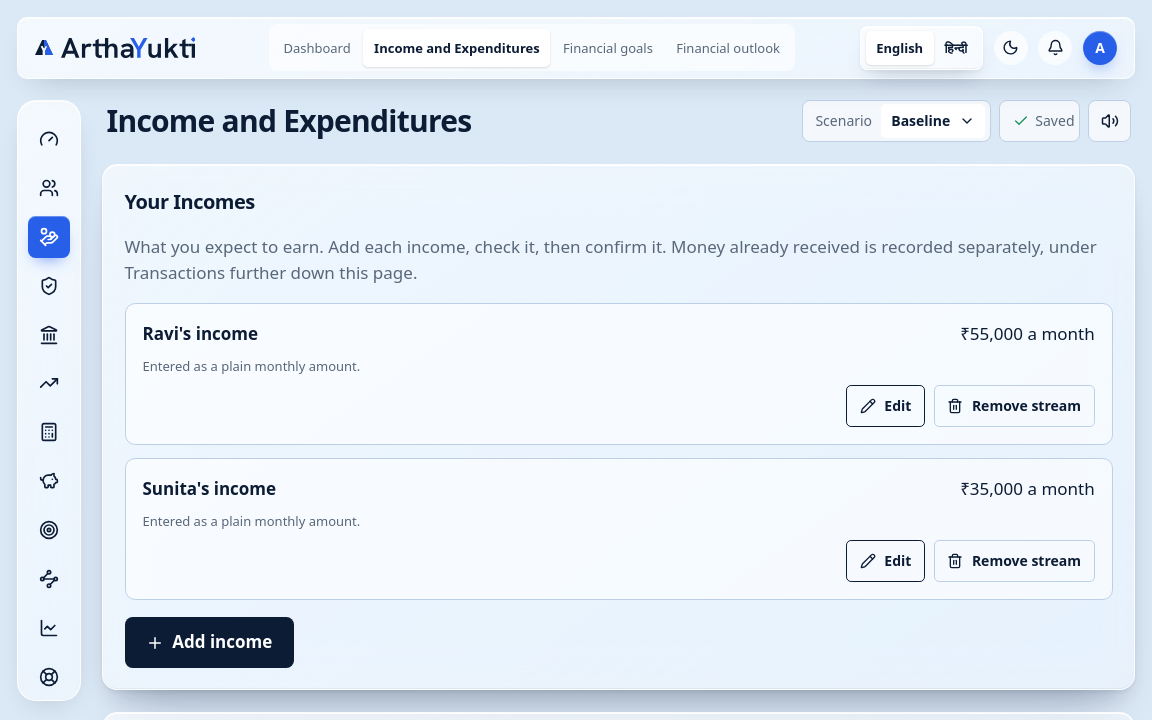
it: Your Incomes: adding, editing and confirming › ignores a second click on Confirm Income while the first is saving
Click the button "Add income" at {"x": 209, "y": 643}, box [124, 617, 294, 668]
(page scrolled)
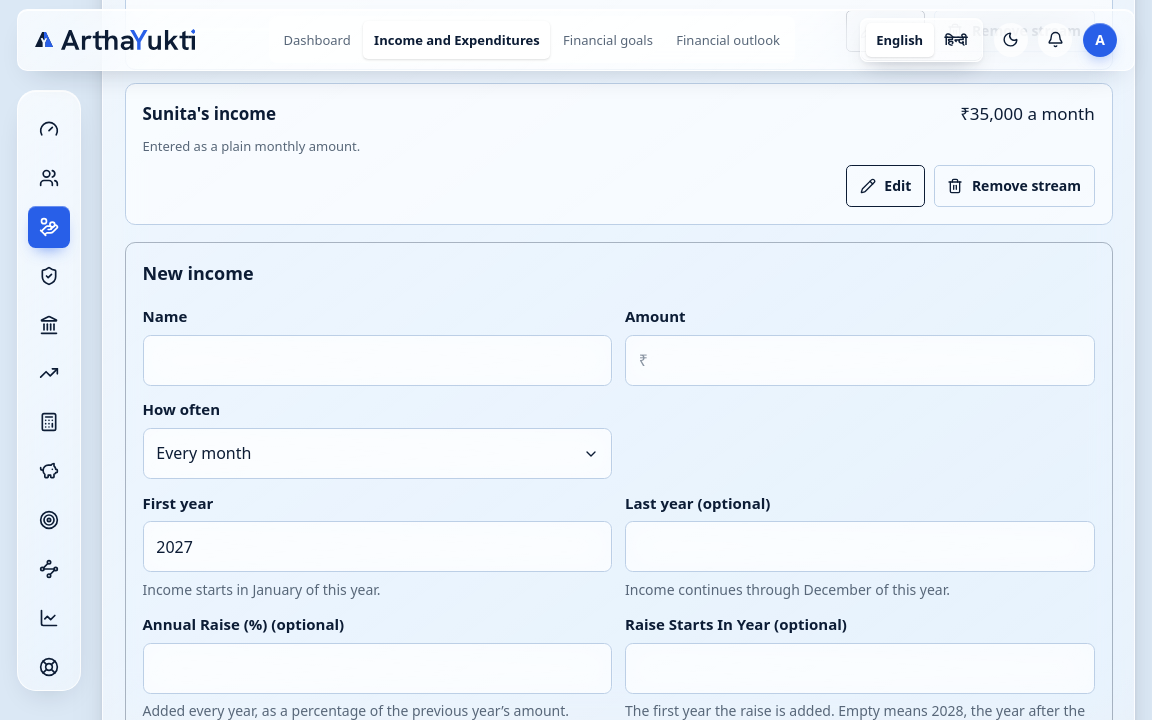
Type "Rent received" into the field labelled "Name" at {"x": 377, "y": 360}, box [142, 335, 612, 386]
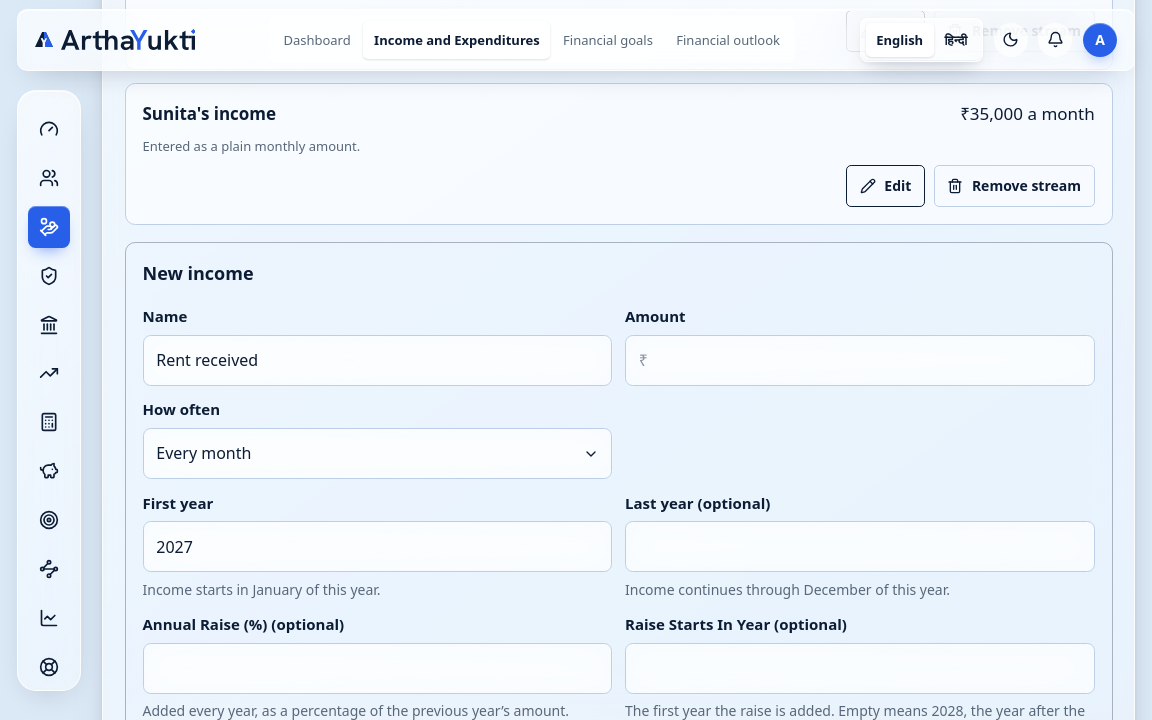
Type "12000" into the field labelled "Amount" at {"x": 860, "y": 360}, box [625, 335, 1095, 386]
(page scrolled)
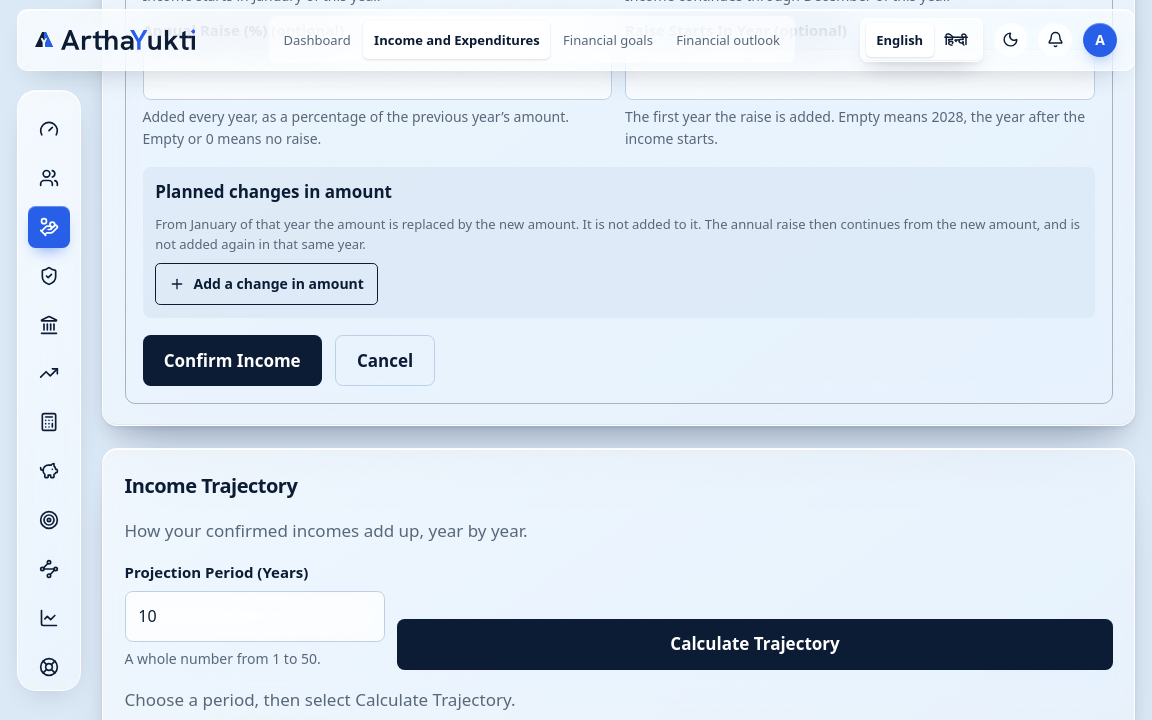
Click the button "Confirm Income" at {"x": 232, "y": 361}, box [142, 335, 322, 386]
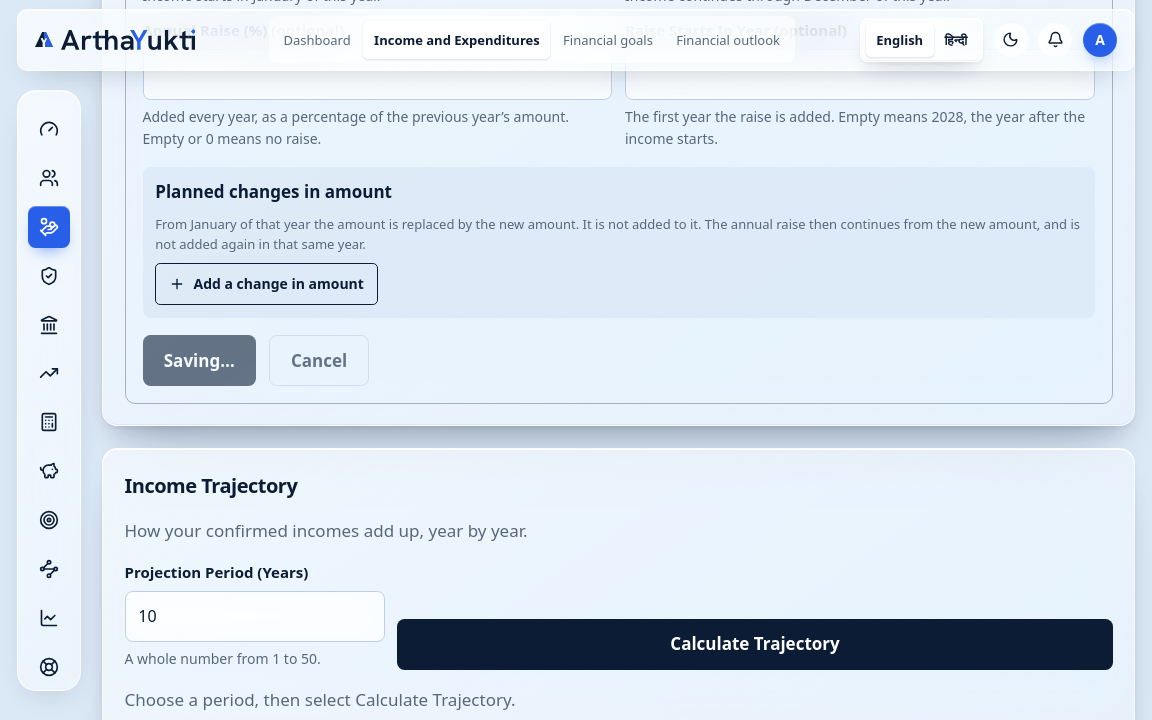
Click the button named "Confirm Income" at {"x": 199, "y": 361}, box [142, 335, 256, 386]
(page scrolled)
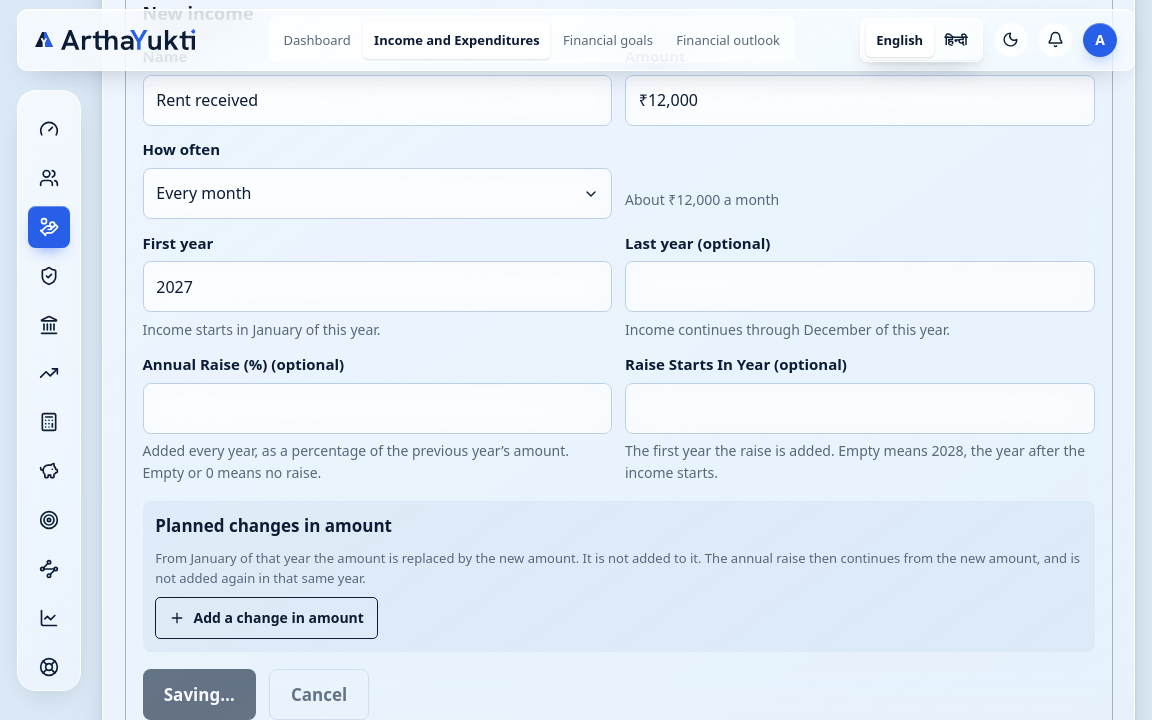
Submit the form "New income"
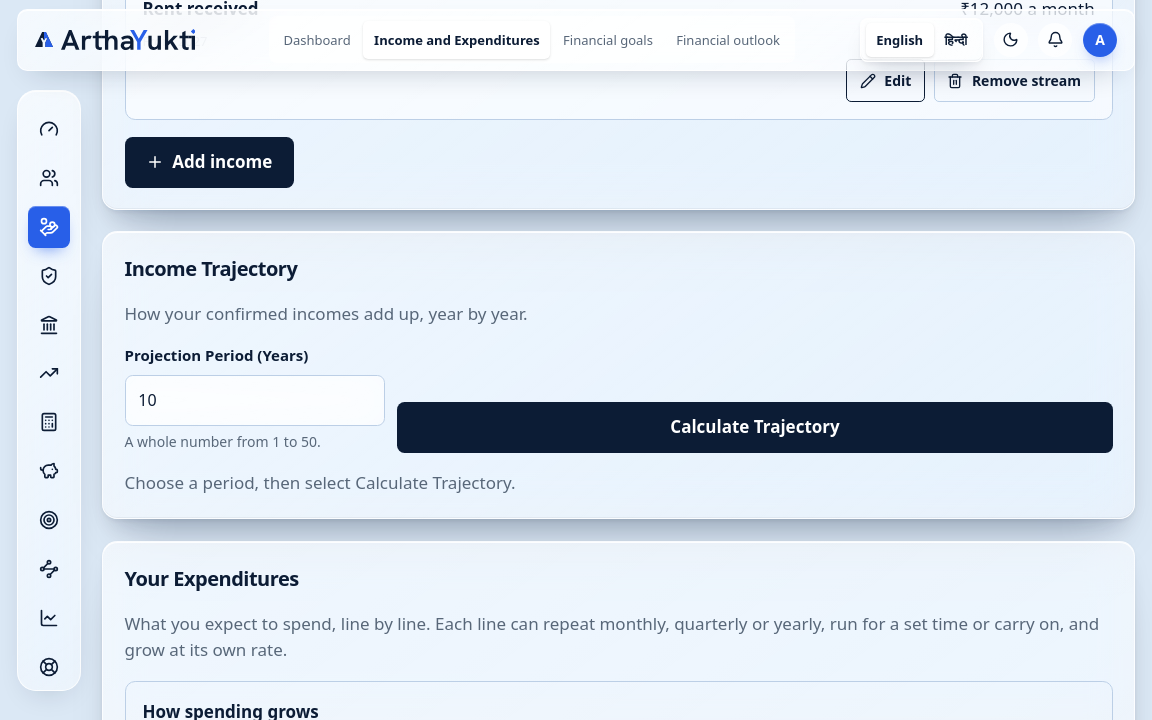
Expected: the heading "New income" is gone
